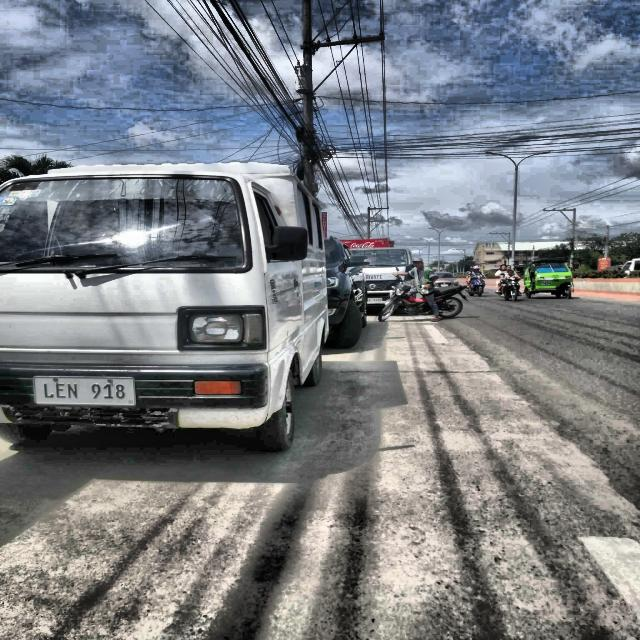license-plate: (34, 376, 136, 406)
